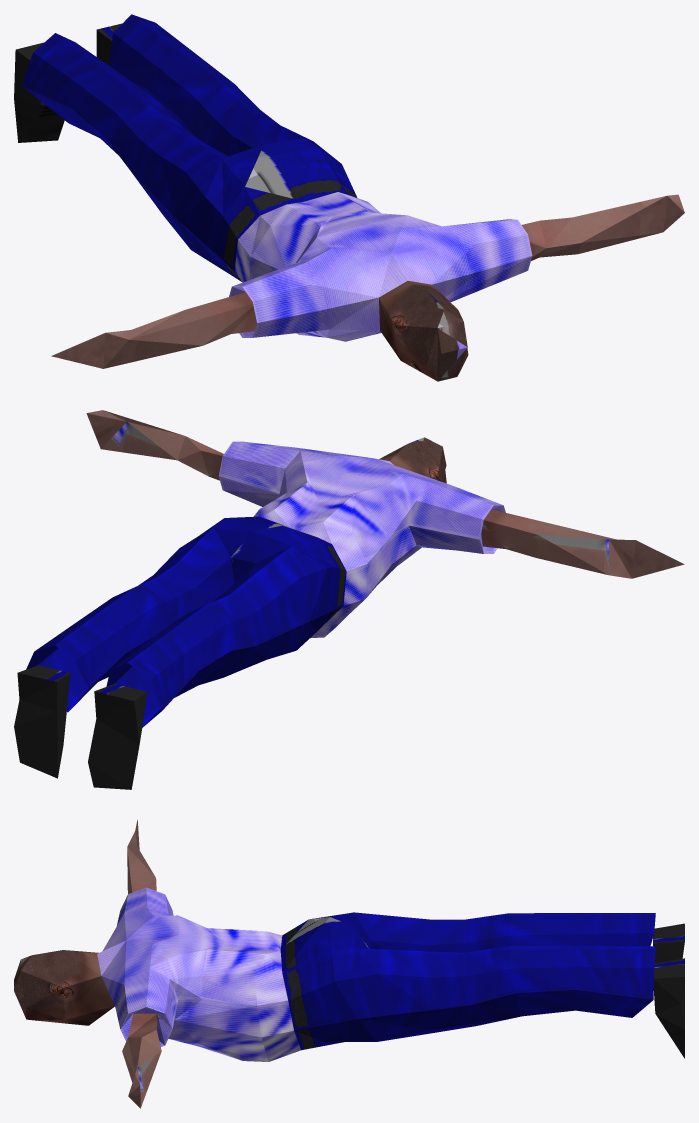
Rendered from tomdrinman2_3kblacknbluelow_wtf.obj.
The picture shows the model from 3 angles, top to bottom: view 1: azimuth 30°, elevation 25°; view 2: azimuth 150°, elevation 25°; view 3: azimuth 270°, elevation 25°; orthographic projection. The views are drawn at different scales.
Visible parts, largest first — view 1: group1; view 2: group1; view 3: group1.
Boxes of the visible parts, x1,y1,x2,y2 form: group1: (14,14,684,381); group1: (14,410,684,789); group1: (14,819,684,1108).
Size of the model in its own units: 618 by 136 by 642.
